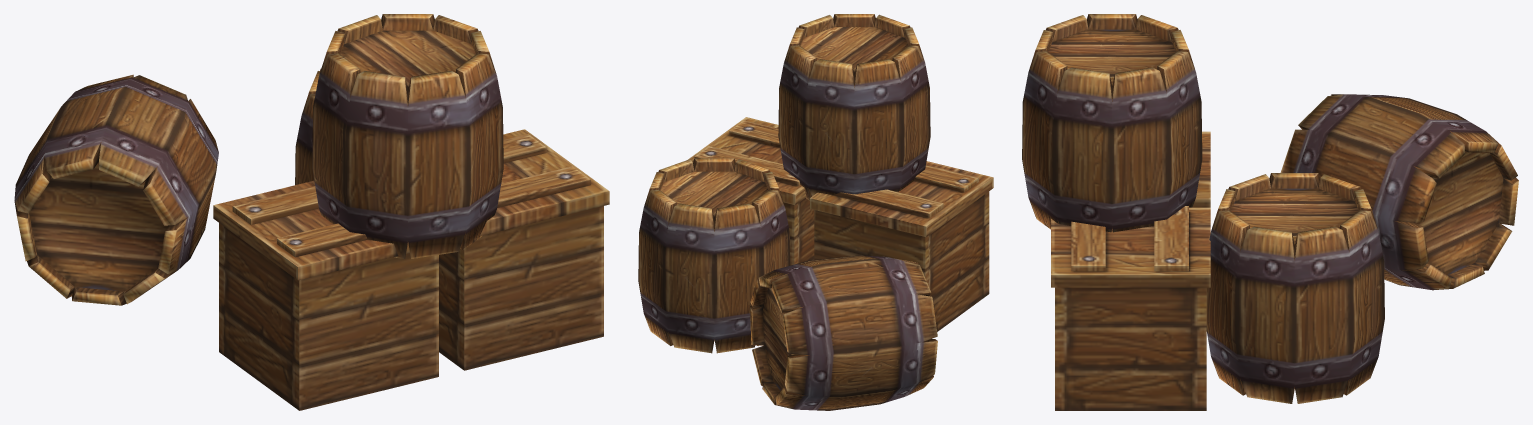
The model's file is yanshi8_wujian2_1.fbx.
3 renders of one model, left to right at view 1: azimuth 30°, elevation 25°; view 2: azimuth 150°, elevation 25°; view 3: azimuth 270°, elevation 25°, orthographic. The views are drawn at different scales.
Visible parts, largest first — view 1: yanshi8_wujian2_1; view 2: yanshi8_wujian2_1; view 3: yanshi8_wujian2_1.
Part boxes in pixels (x1,y1,x2,y2): yanshi8_wujian2_1: [14, 14, 609, 410]; yanshi8_wujian2_1: [638, 14, 993, 410]; yanshi8_wujian2_1: [1022, 14, 1518, 410].
Bounding box in the file's own units: 217 × 153 × 238.
